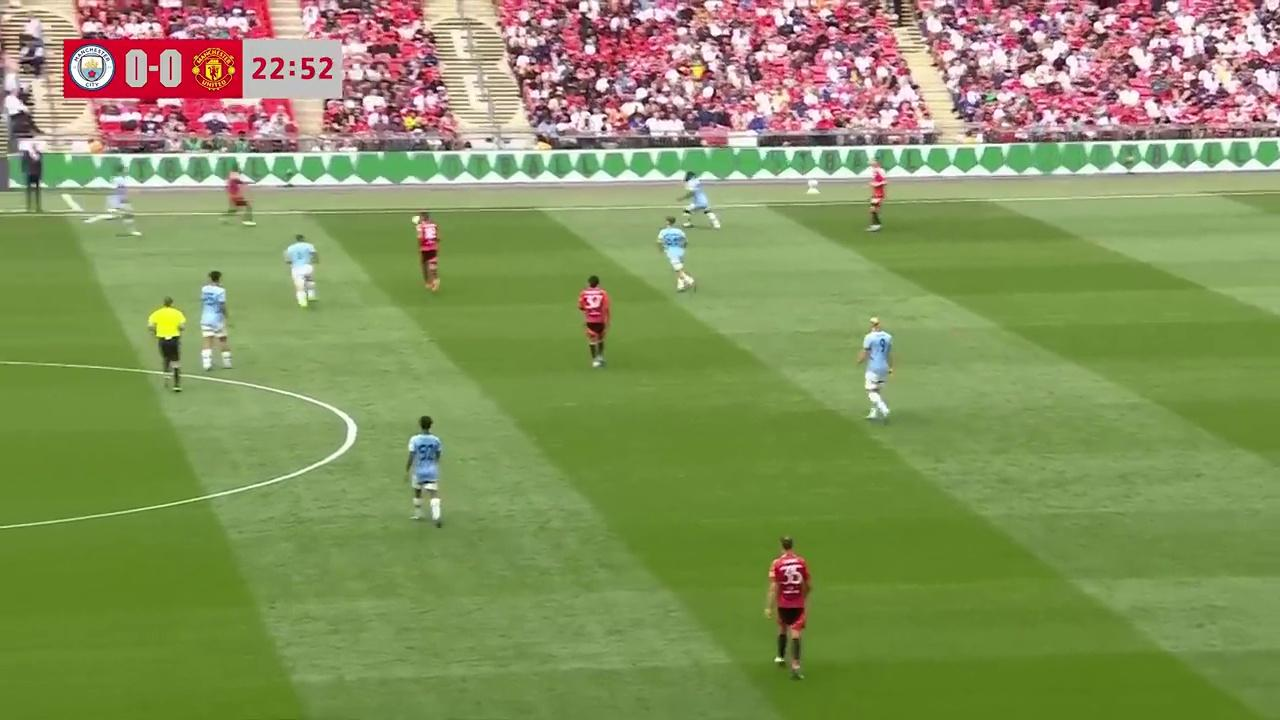ball: (306, 285, 316, 302)
player: (764, 536, 811, 681), (405, 416, 443, 527), (856, 319, 893, 422), (198, 271, 232, 368), (577, 275, 611, 369), (656, 216, 696, 292), (284, 232, 318, 307), (106, 177, 142, 240), (413, 211, 440, 292), (686, 175, 720, 230), (223, 169, 255, 223), (866, 161, 886, 231)
referee: (148, 294, 186, 392)
